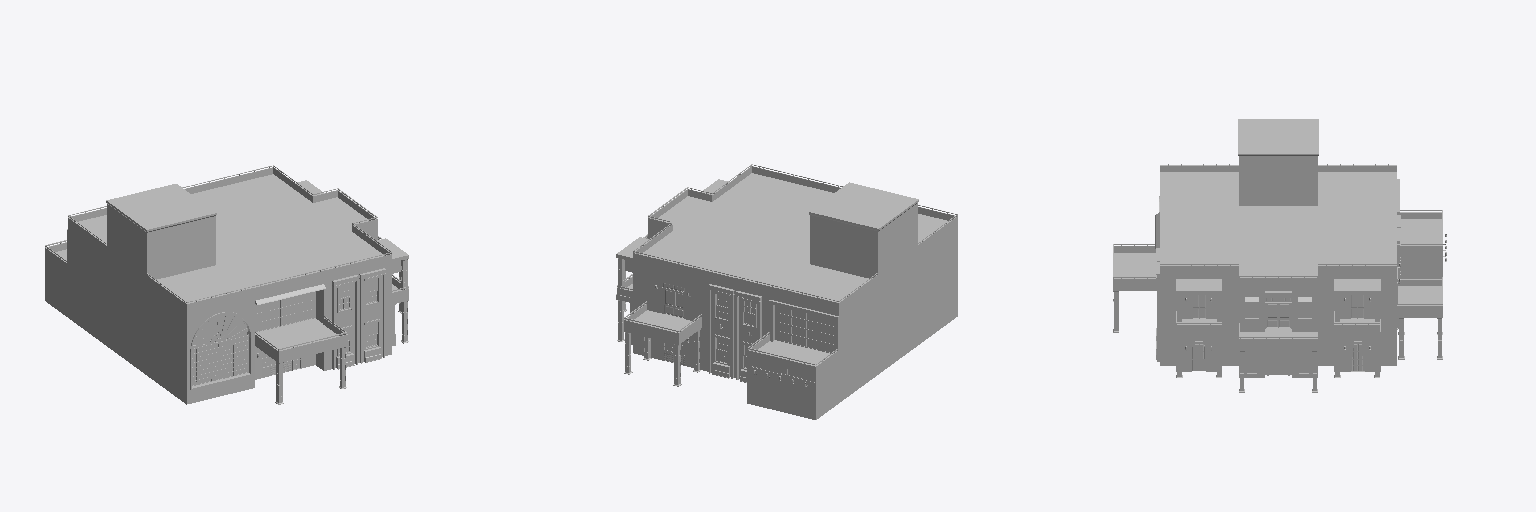
The model's file is Facility.obj.
The picture shows the model from 3 angles: view 1: azimuth 30°, elevation 25°; view 2: azimuth 150°, elevation 25°; view 3: azimuth 270°, elevation 25°; orthographic projection.
Parts seen in each view (by area): view 1: BigWindow_Cylinder.008; view 2: BigWindow_Cylinder.008; view 3: BigWindow_Cylinder.008.
Boxes of the visible parts, box(x1,y1,x2,y2) form: BigWindow_Cylinder.008: box(45, 165, 408, 404); BigWindow_Cylinder.008: box(616, 164, 957, 419); BigWindow_Cylinder.008: box(1113, 119, 1446, 392).
Bounding box in the file's own units: 3.82 × 2.05 × 4.24.